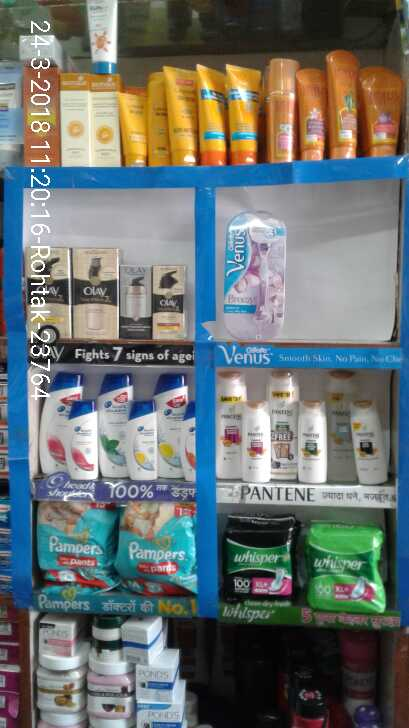venus: (224, 211, 287, 337)
